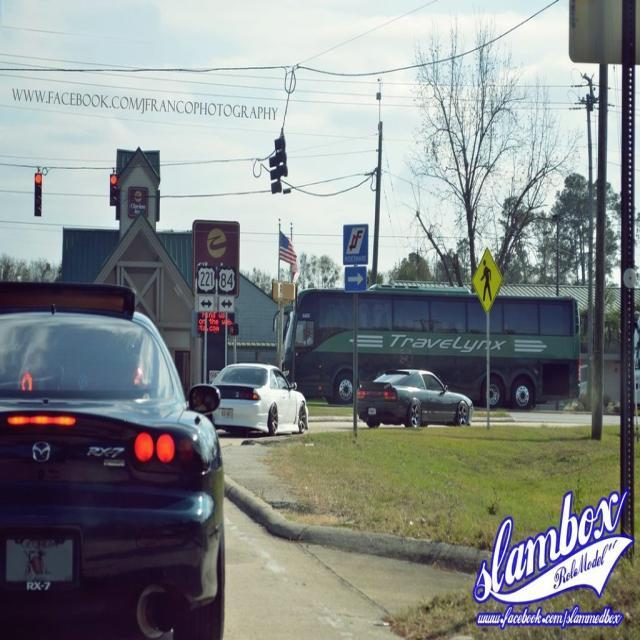off traffic light: (271, 139, 289, 193)
road_sign: (344, 266, 368, 295)
traffic light: (107, 173, 120, 205), (33, 173, 42, 219)
